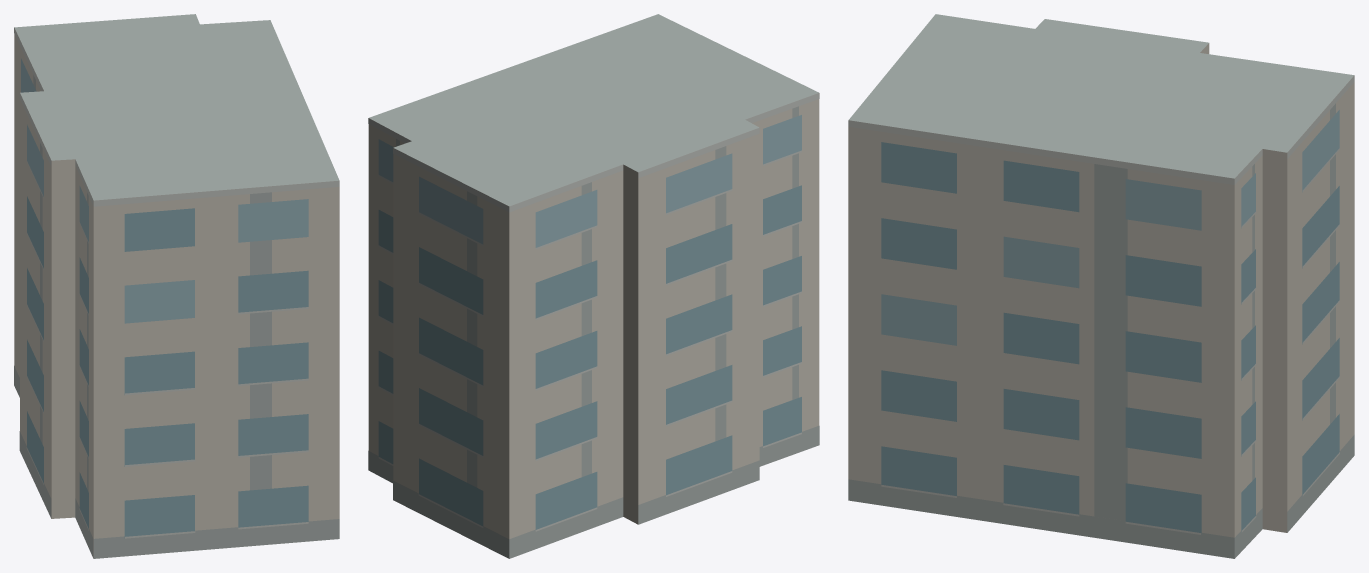
Rendered from survey-upis-32852644.glb.
3 views of the same model, side by side, from view 1: azimuth 30°, elevation 25°; view 2: azimuth 150°, elevation 25°; view 3: azimuth 270°, elevation 25° (orthographic). The views are drawn at different scales.
Parts seen in each view (by area): view 1: survey-upis-32852644.tmp; view 2: survey-upis-32852644.tmp; view 3: survey-upis-32852644.tmp.
Boxes of the visible parts, x1,y1,x2,y2 form: survey-upis-32852644.tmp: (14,14,339,558); survey-upis-32852644.tmp: (368,14,819,558); survey-upis-32852644.tmp: (848,14,1354,558).
Bounding box in the file's own units: 13.19 × 14.2 × 17.14.
